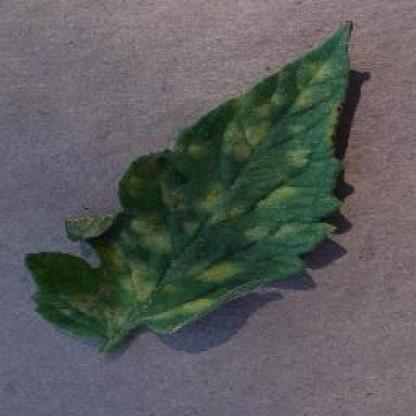Tomato_Leaf_Mold: (25, 20, 352, 338)
